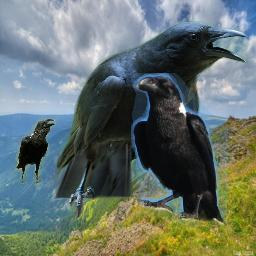Crow: (50, 21, 248, 218), (131, 73, 228, 227), (15, 117, 56, 185)
